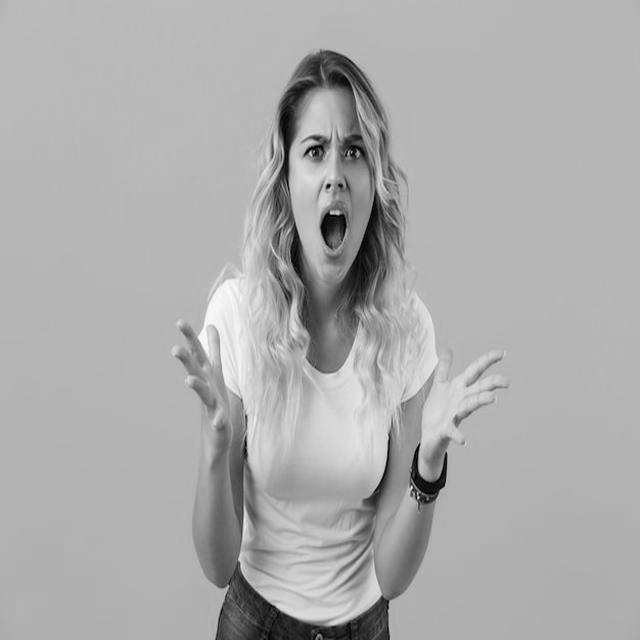Angry: (289, 91, 376, 281)
